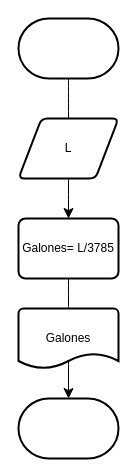
Image size: 136x476. Some labels were removed from this diagram. Each missing label, with the box of its shape:
Fin: (17, 397, 119, 459)
Inicio: (17, 17, 119, 79)
